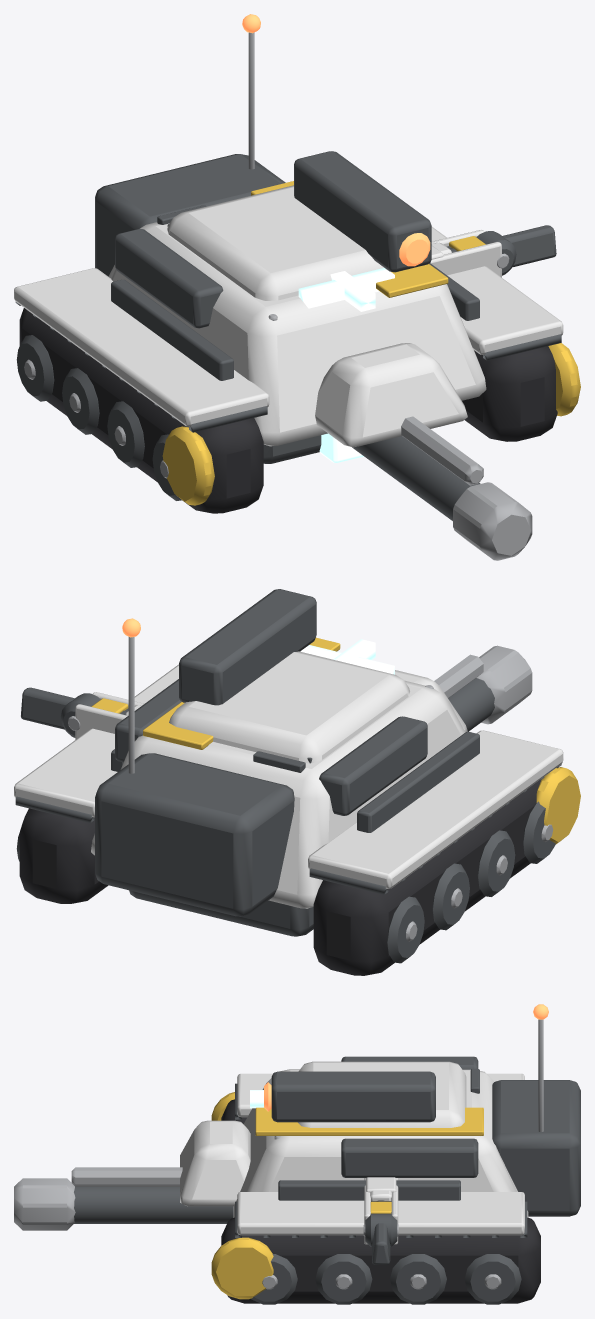
Rendered from rifle.glb.
3 renders of one model, top to bottom at view 1: azimuth 30°, elevation 25°; view 2: azimuth 150°, elevation 25°; view 3: azimuth 270°, elevation 25°, orthographic. The views are drawn at different scales.
Visible parts, largest first — view 1: Hull, Turret, Barrel, LegUpper, LegLower; view 2: Hull, Turret, Barrel, LegUpper, LegLower; view 3: Hull, Turret, Barrel, LegUpper, LegLower.
Boxes of the visible parts, box(x1,y1,x2,y2) form: Hull: box(14, 14, 580, 513); Turret: box(167, 151, 431, 308); Barrel: box(319, 416, 532, 560); LegUpper: box(430, 230, 516, 277); LegLower: box(431, 225, 556, 267); Hull: box(14, 618, 580, 975); Turret: box(169, 589, 409, 763); Barrel: box(434, 645, 532, 731); LegUpper: box(60, 692, 144, 739); LegLower: box(21, 687, 141, 729); Hull: box(180, 1004, 580, 1304); Turret: box(264, 1061, 466, 1127); Barrel: box(14, 1167, 233, 1230); LegUpper: box(363, 1177, 398, 1246); LegLower: box(370, 1190, 391, 1264).
Size of the model in its own units: 0.761 by 0.499 by 0.9933.
